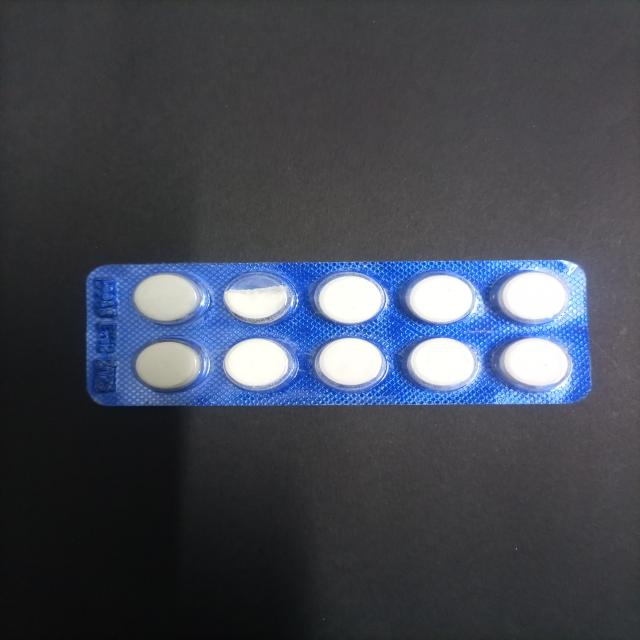defect: (220, 268, 300, 328)
